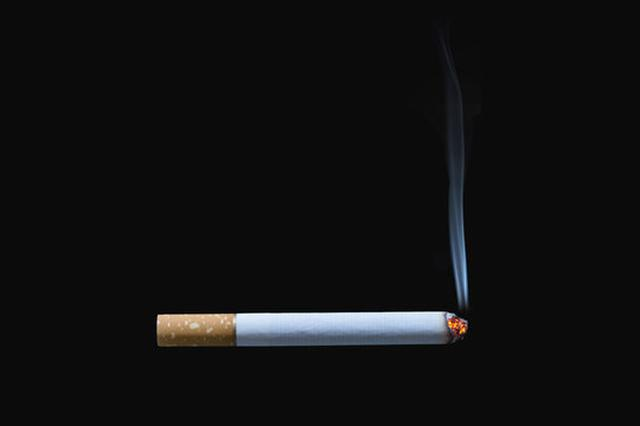Cigarette: (155, 142, 474, 347)
